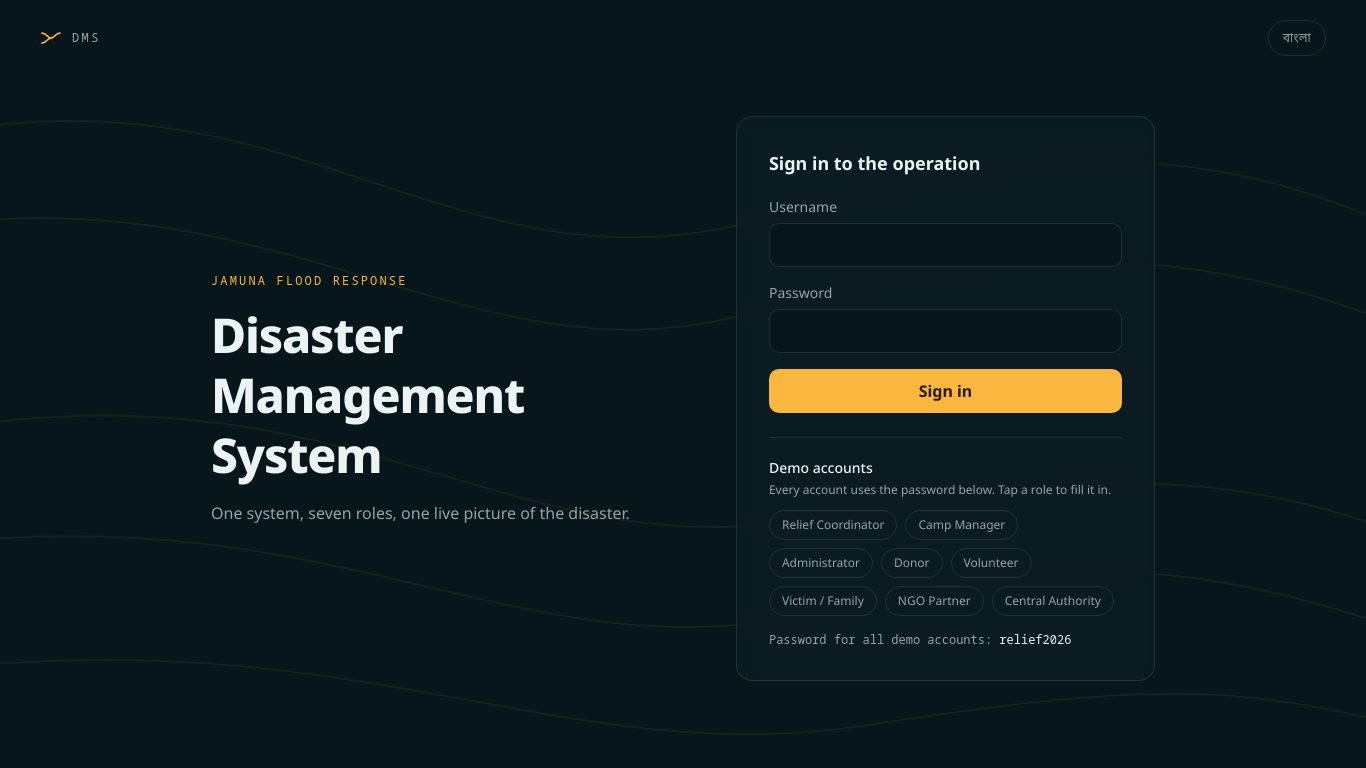
Test: a demo role chip fills the sign-in form
This screenshot has width=1366, height=768.
Click the button "Volunteer".
click(991, 563)  # box [950,548,1032,578]
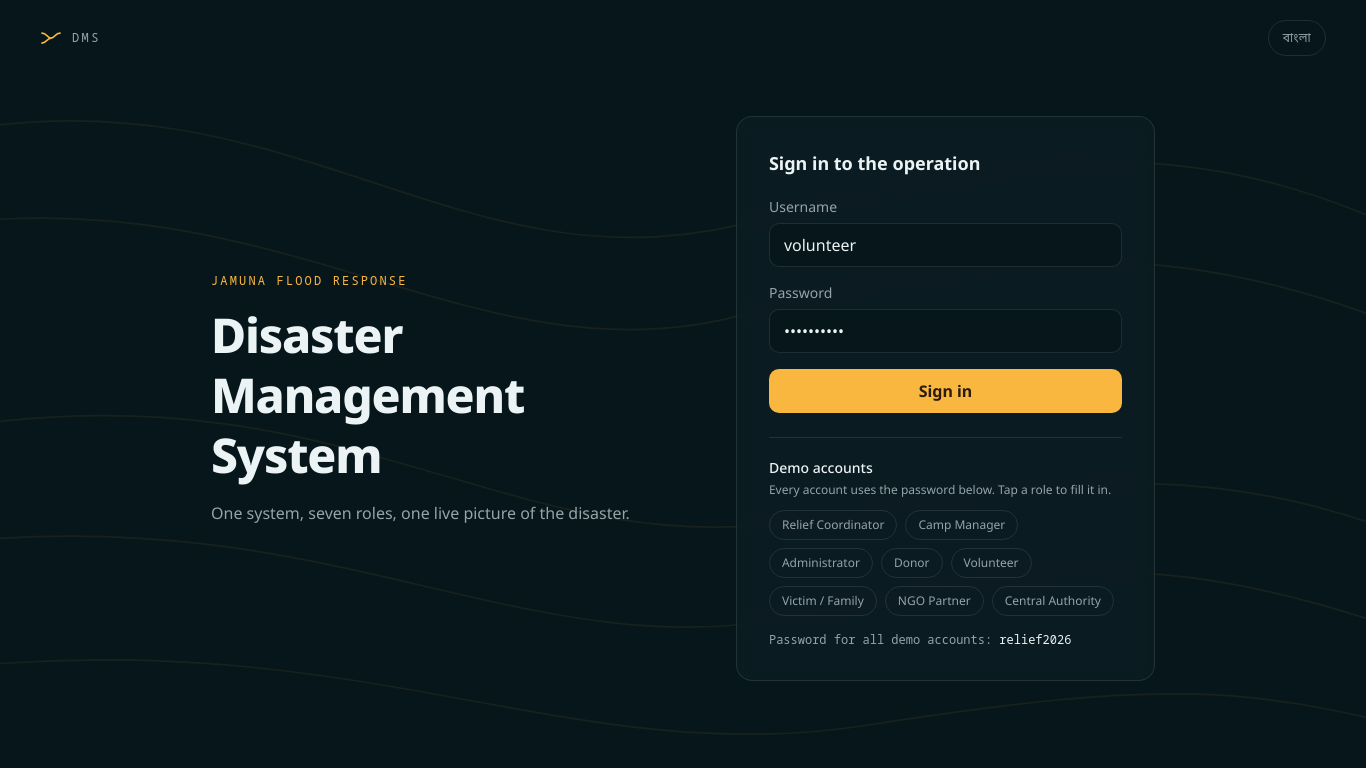
expect the field labelled "Username" holds "volunteer": met, box [769,223,1122,267]
expect the password field labelled "Password" holds "relief2026": met, box [769,309,1122,353]
